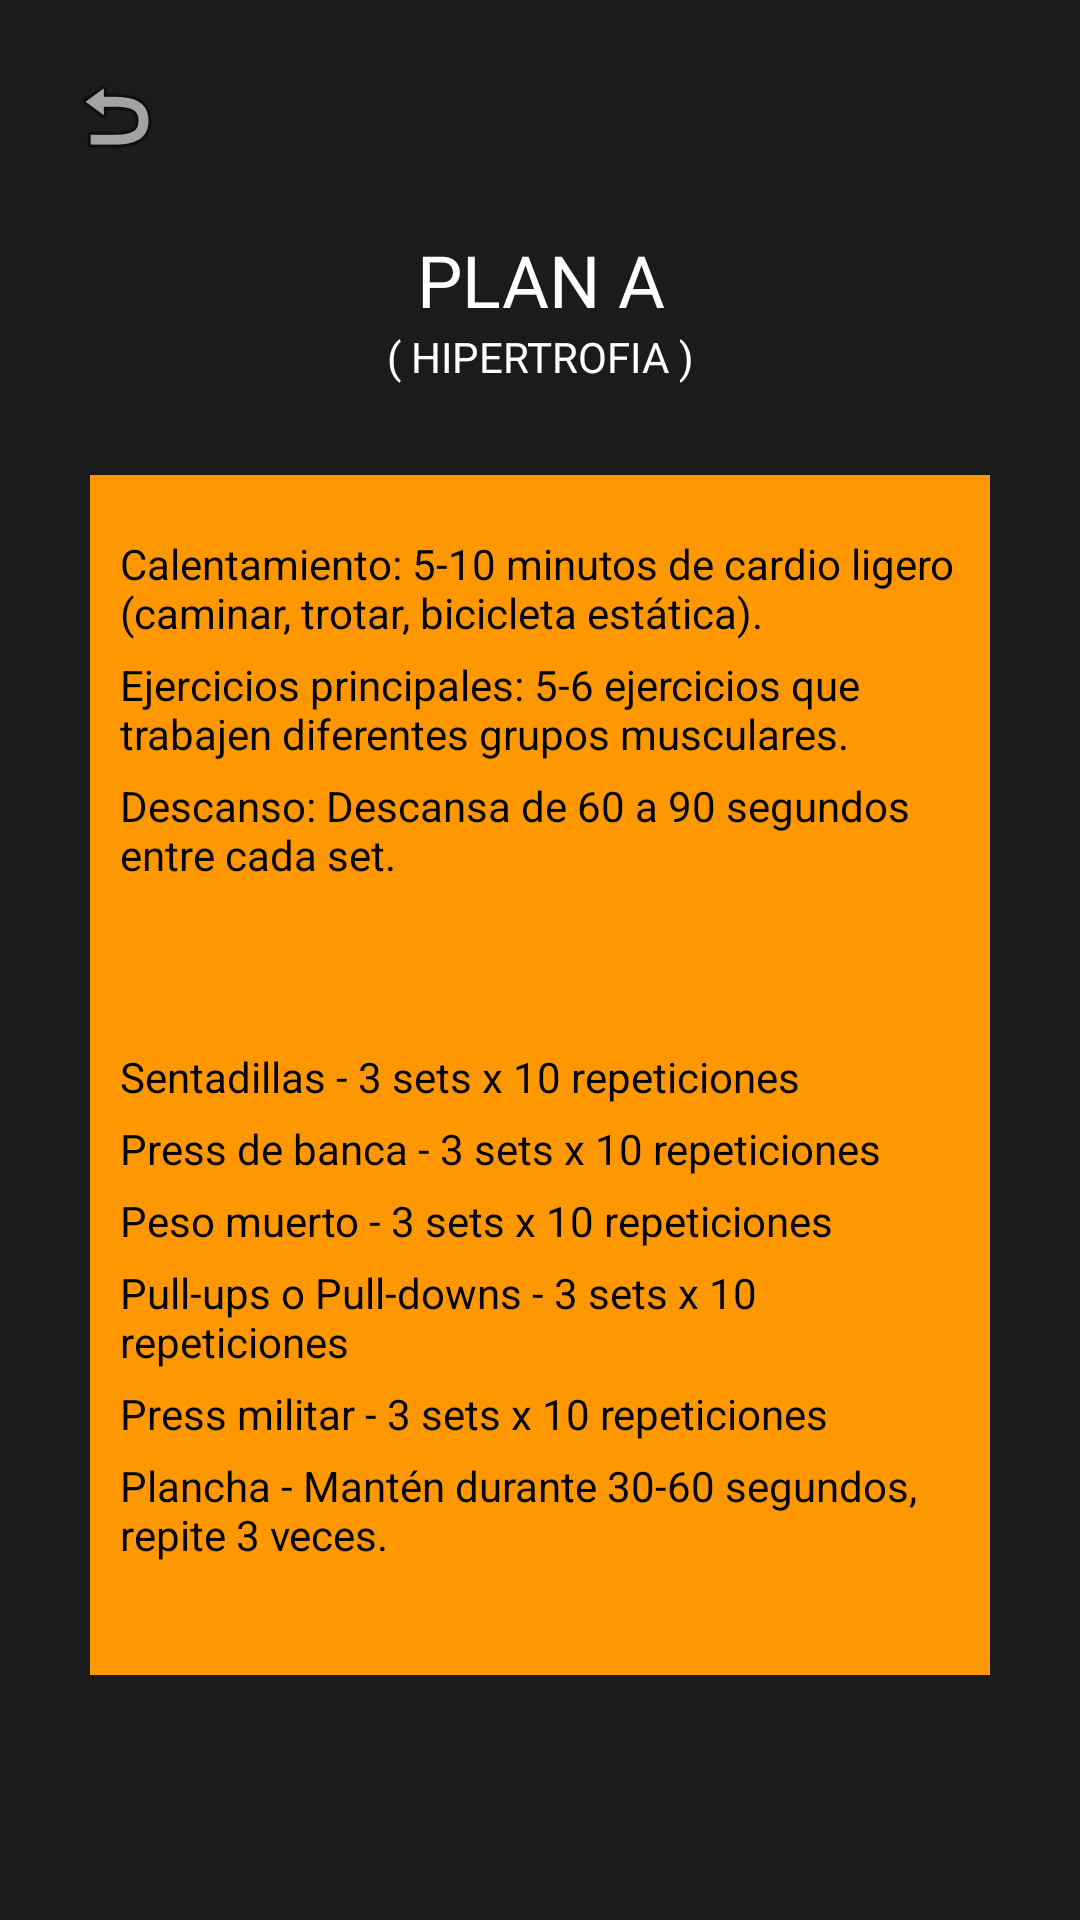

Screen size 1080x1920. Icon name, then its box in pixels as (x1,y1,x2,y2):
Volver: (86,88,149,145)
